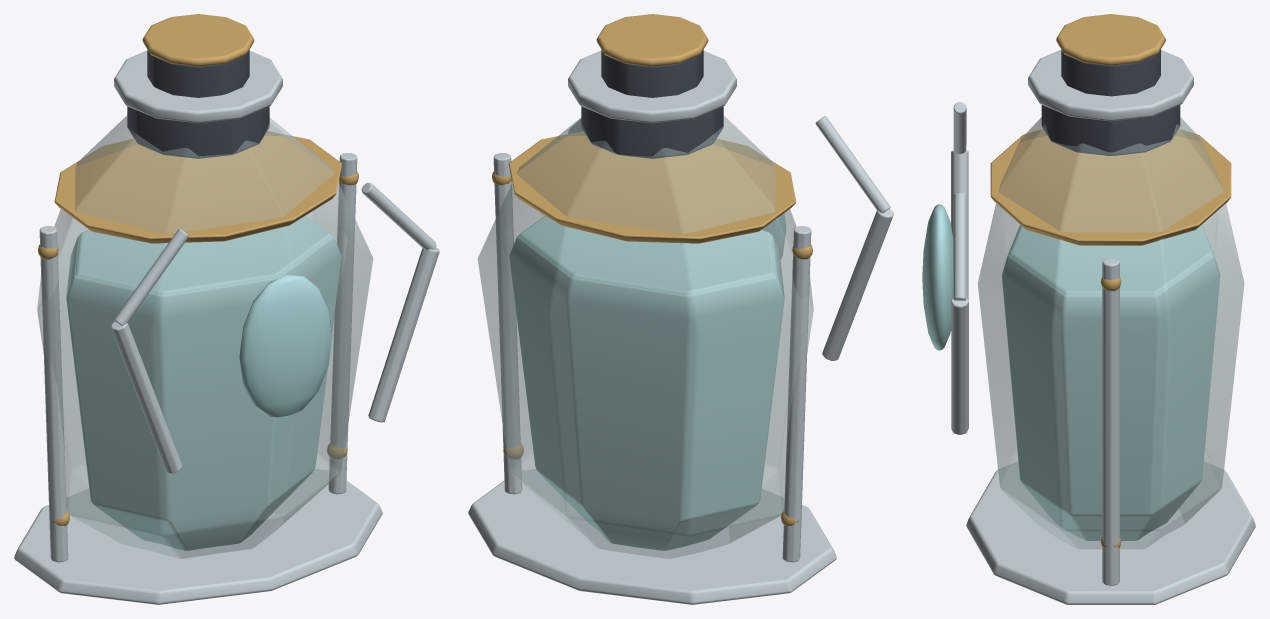
File: SM_Flask_Ghost.fbx
3 views of the same model, side by side, from view 1: azimuth 30°, elevation 25°; view 2: azimuth 150°, elevation 25°; view 3: azimuth 270°, elevation 25° (orthographic).
Parts seen in each view (by area): view 1: glass_CutVessel, liquid_ContainedEssence, metal_BaseRing, gold_ShoulderRim, liquid_Meniscus, liquid_Soul, metal_MouthLip, metal_CradleRail, metal_CradleRail.001, dark_NeckSleeve, gold_CapInset, metal_Sickle.001 (+4 smaller); view 2: glass_CutVessel, liquid_ContainedEssence, metal_BaseRing, gold_ShoulderRim, liquid_Meniscus, metal_MouthLip, metal_CradleRail, metal_CradleRail.001, dark_NeckSleeve, gold_CapInset, dark_SealedStopper, metal_Sickle (+1 smaller); view 3: glass_CutVessel, liquid_ContainedEssence, metal_BaseRing, gold_ShoulderRim, liquid_Meniscus, metal_MouthLip, metal_CradleRail.001, dark_NeckSleeve, gold_CapInset, liquid_Soul, dark_SealedStopper, metal_Sickle.001 (+3 smaller).
Part boxes in pixels (x1,y1,x2,y2): glass_CutVessel: [37, 116, 373, 558]; liquid_ContainedEssence: [66, 234, 341, 550]; metal_BaseRing: [14, 469, 382, 604]; gold_ShoulderRim: [54, 131, 342, 243]; liquid_Meniscus: [75, 215, 331, 294]; liquid_Soul: [239, 275, 332, 417]; metal_MouthLip: [114, 51, 282, 123]; metal_CradleRail: [39, 226, 68, 562]; metal_CradleRail.001: [328, 153, 357, 494]; dark_NeckSleeve: [127, 106, 269, 158]; gold_CapInset: [142, 14, 254, 66]; metal_Sickle.001: [368, 247, 439, 422]; glass_CutVessel: [477, 116, 813, 558]; liquid_ContainedEssence: [509, 234, 784, 550]; metal_BaseRing: [468, 469, 836, 604]; gold_ShoulderRim: [508, 131, 796, 243]; liquid_Meniscus: [519, 215, 775, 294]; metal_MouthLip: [568, 51, 736, 123]; metal_CradleRail: [782, 226, 811, 562]; metal_CradleRail.001: [493, 153, 522, 494]; dark_NeckSleeve: [581, 106, 723, 158]; gold_CapInset: [596, 14, 708, 66]; dark_SealedStopper: [601, 50, 703, 97]; metal_Sickle: [822, 208, 893, 360]; glass_CutVessel: [977, 117, 1244, 548]; liquid_ContainedEssence: [1002, 225, 1220, 540]; metal_BaseRing: [966, 461, 1255, 604]; gold_ShoulderRim: [990, 129, 1231, 245]; liquid_Meniscus: [1009, 225, 1212, 294]; metal_MouthLip: [1028, 50, 1193, 121]; metal_CradleRail.001: [1102, 258, 1119, 585]; dark_NeckSleeve: [1041, 105, 1180, 155]; gold_CapInset: [1056, 14, 1165, 65]; liquid_Soul: [922, 204, 953, 350]; dark_SealedStopper: [1061, 49, 1160, 96]; metal_Sickle.001: [951, 297, 968, 434].
Size of the model in its own units: 32.35 by 48.5 by 29.14.
